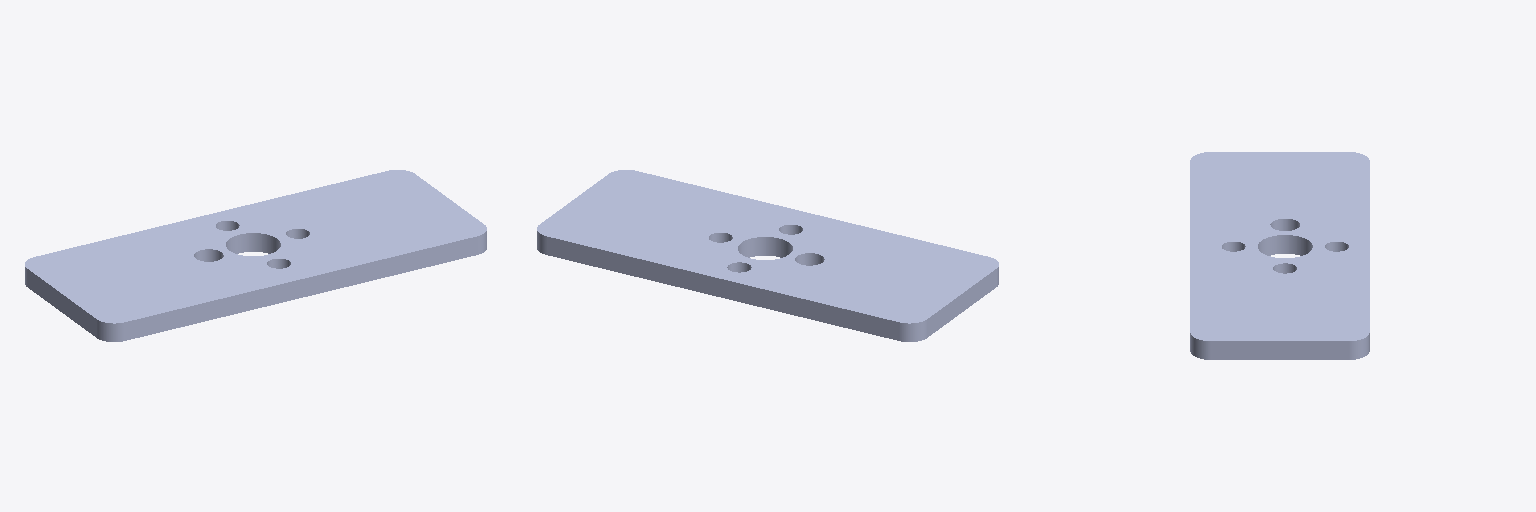
File: sujetador_Eje-organoTerminal.obj
3 views of the same model, side by side, from view 1: azimuth 30°, elevation 25°; view 2: azimuth 150°, elevation 25°; view 3: azimuth 270°, elevation 25° (orthographic).
Parts seen in each view (by area): view 1: Cut_Extrude1; view 2: Cut_Extrude1; view 3: Cut_Extrude1.
Part boxes in pixels (left/top/right/bottom): Cut_Extrude1: left=25, top=170, right=486, bottom=341; Cut_Extrude1: left=537, top=170, right=998, bottom=341; Cut_Extrude1: left=1190, top=152, right=1369, bottom=359.
Size of the model in its own units: 25.59 by 1.18 by 10.24.